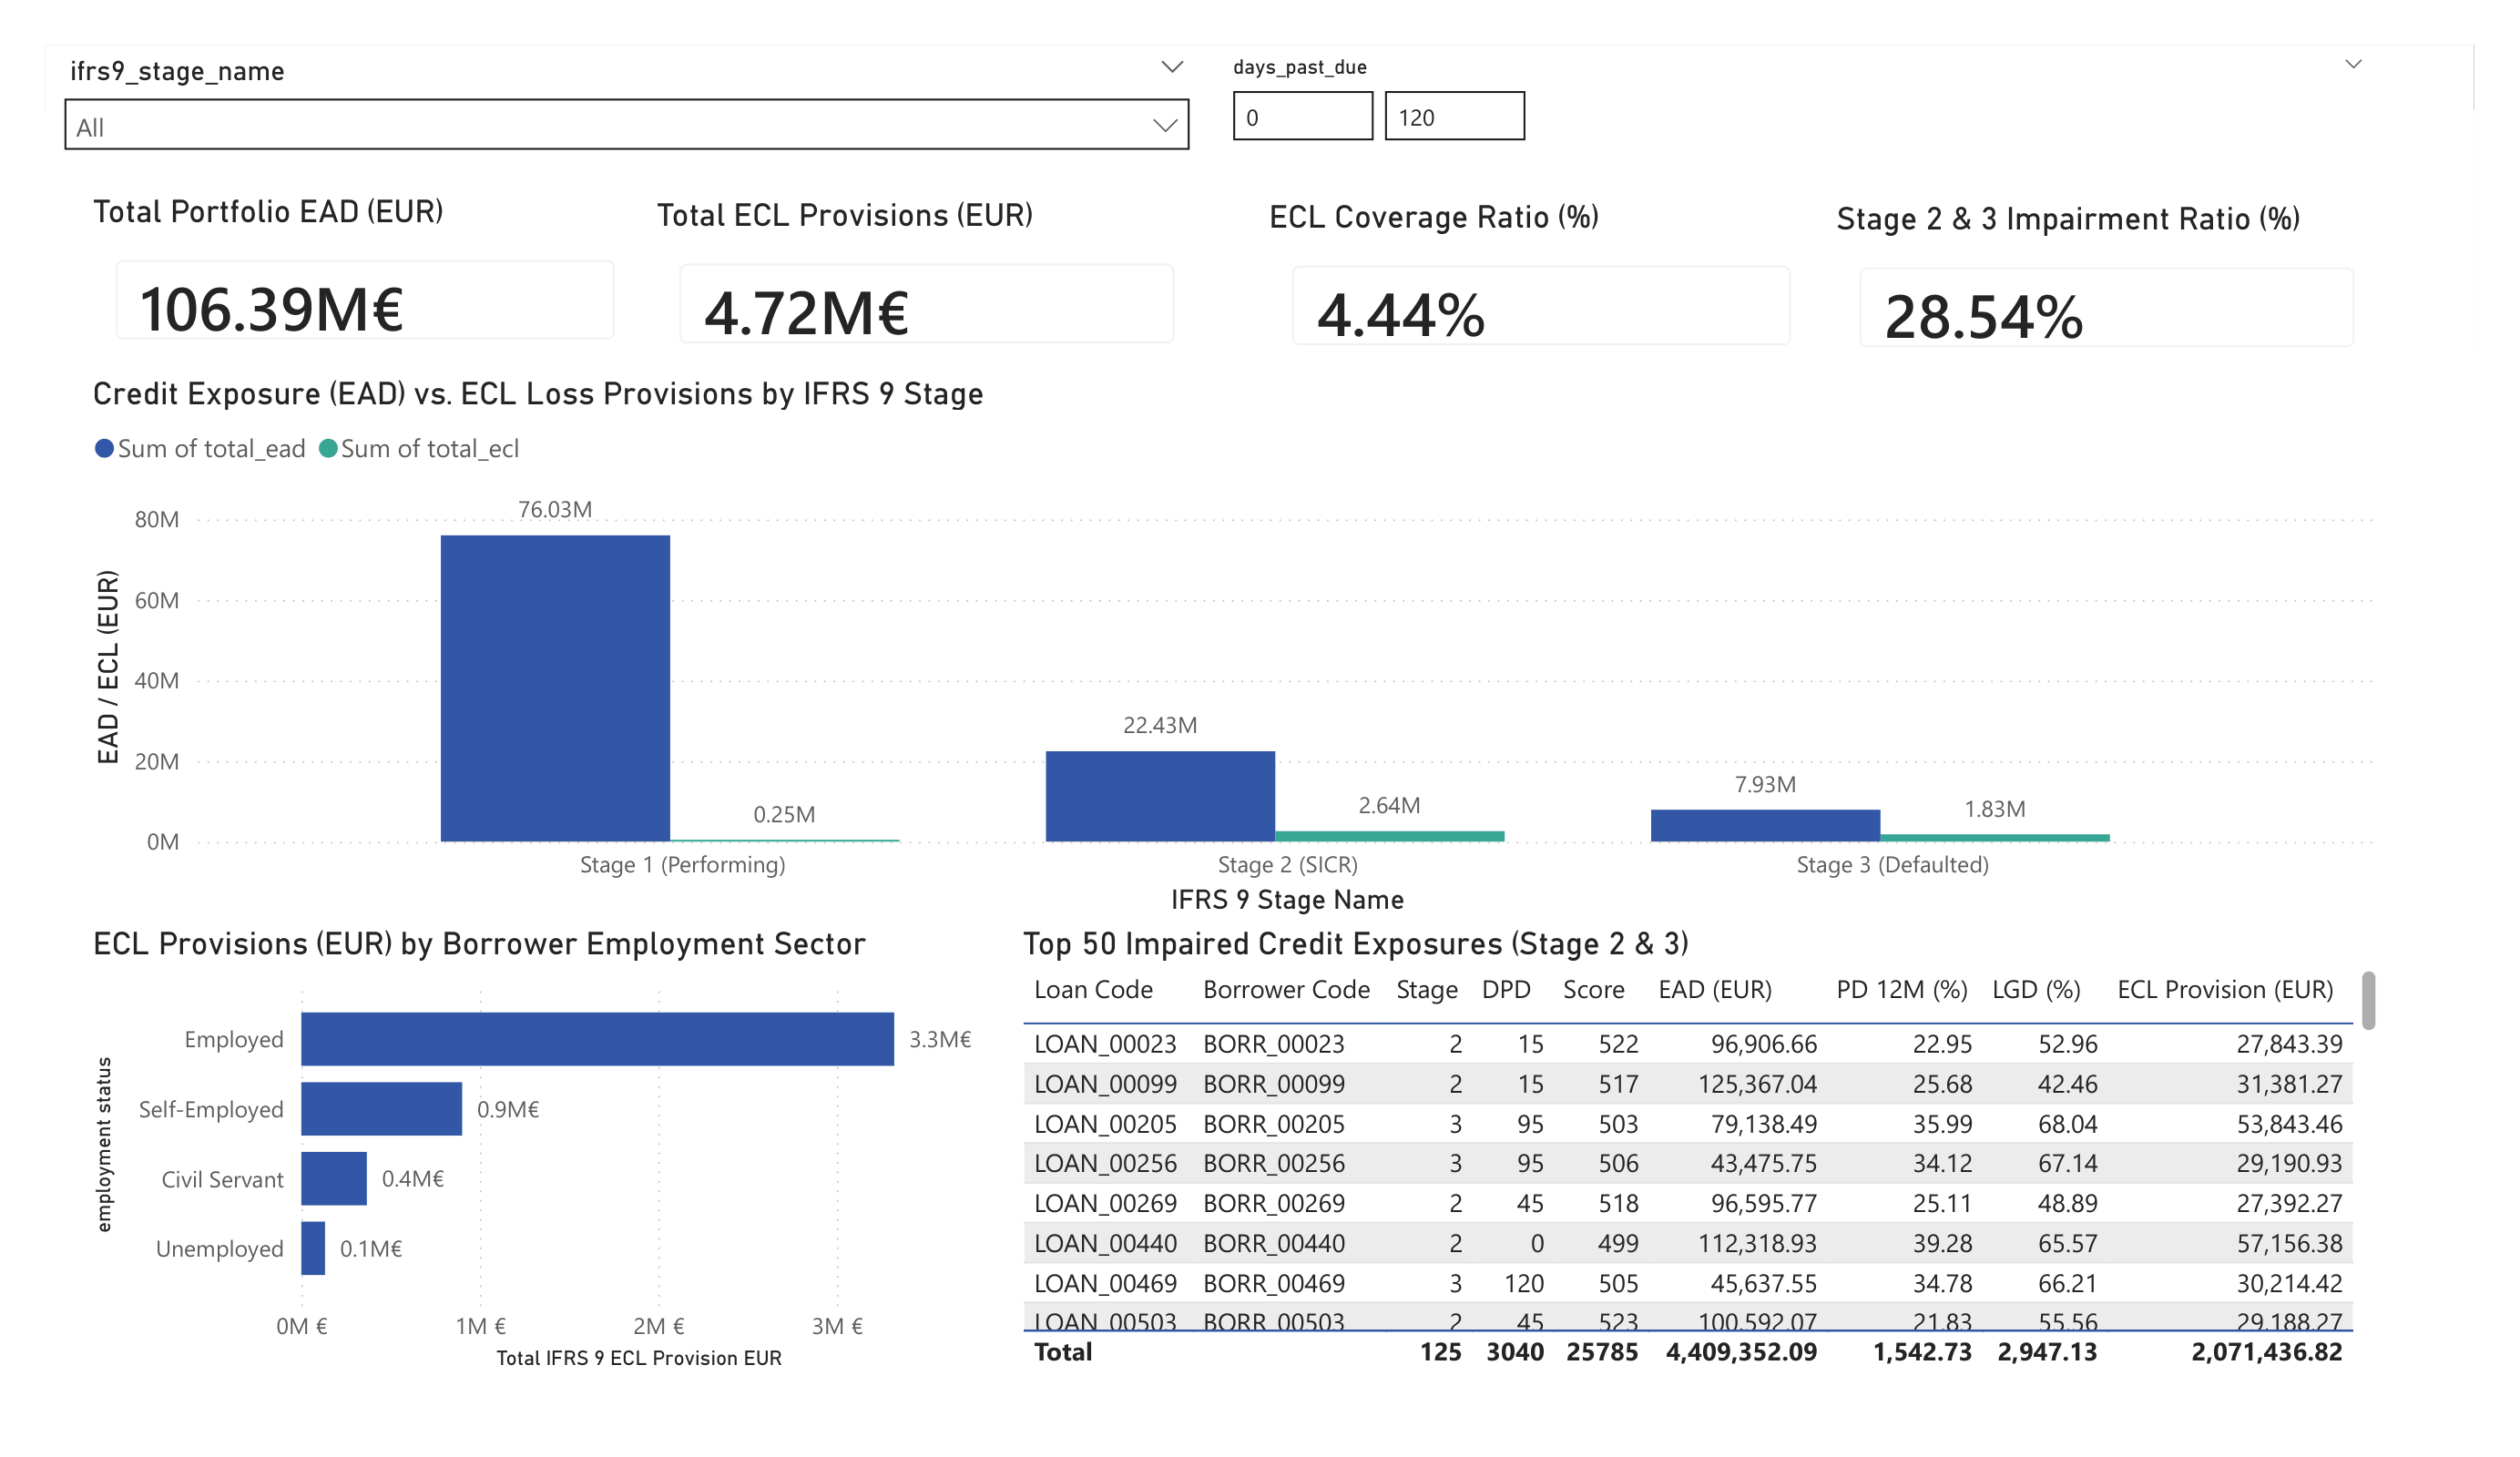

The dashboard page shown, as its layout file describes it:
{"tool":"powerbi","page":{"name":"1. IFRS 9 Portfolio Impairment","canvas":[1280,720],"ordinal":0},"visuals":[{"type":"cardVisual","title":"Total Portfolio EAD (EUR)","fields":{"Data":["_Credit Risk Measures.Total Loan Portfolio EAD EUR"]},"box":[20,77.1,297.1,95.7],"z":0},{"type":"cardVisual","title":"Total ECL Provisions (EUR)","fields":{"Data":["_Credit Risk Measures.Total IFRS 9 ECL Provision EUR"]},"box":[317.1,78.6,295.7,95.7],"z":1000},{"type":"cardVisual","title":"ECL Coverage Ratio (%)","fields":{"Data":["_Credit Risk Measures.Portfolio ECL Coverage Ratio %"]},"box":[640,80,297.1,95.7],"z":1001},{"type":"cardVisual","title":"Stage 2 & 3 Impairment Ratio (%)","fields":{"Data":["_Credit Risk Measures.Impairment Ratio %"]},"box":[938.6,81.4,295.7,95.7],"z":1002},{"type":"clusteredColumnChart","title":"Credit Exposure (EAD) vs. ECL Loss Provisions by IFRS 9 Stage","fields":{"Category":["vw_ifrs9_ecl_summary.ifrs9_stage_name"],"Y":["Sum(vw_ifrs9_ecl_summary.total_ead)","Sum(vw_ifrs9_ecl_summary.total_ecl)"]},"box":[20,172.9,1214.3,290],"z":1003},{"type":"clusteredBarChart","title":"ECL Provisions (EUR) by Borrower Employment Sector","fields":{"Category":["vw_credit_portfolio_overview.employment_status"],"Y":["_Credit Risk Measures.Total IFRS 9 ECL Provision EUR"]},"box":[20,462.9,490,240],"z":1004},{"type":"tableEx","title":"Top 50 Impaired Credit Exposures (Stage 2 & 3)","fields":{"Values":["vw_top_impaired_loans.loan_code","vw_top_impaired_loans.borrower_code","Sum(vw_top_impaired_loans.ifrs9_stage)","Sum(vw_top_impaired_loans.days_past_due)","Sum(vw_top_impaired_loans.scorecard_points)","Sum(vw_top_impaired_loans.ead)","Sum(vw_top_impaired_loans.pd_12m_pct)","Sum(vw_top_impaired_loans.lgd_pct)","Sum(vw_top_impaired_loans.ecl_amount)"]},"box":[510,462.9,724.3,240],"z":1005},{"type":"slicer","fields":{"Values":["vw_credit_portfolio_overview.ifrs9_stage_name"]},"box":[0,0,612.9,65.7],"z":1006},{"type":"slicer","fields":{"Values":["vw_credit_portfolio_overview.days_past_due"]},"box":[612.9,0,621.4,65.7],"z":1007}]}

Visuals, with their boxes on the page's 1280x720 design canvas (x1, y1, x2, y2). These are canvas units, not pixel positions in the 2520x1457 screenshot, which may show the page scaled, cropped or inside an application window:
"Total Portfolio EAD (EUR)" cardVisual: crop(20, 77, 317, 173)
"Total ECL Provisions (EUR)" cardVisual: crop(317, 79, 613, 174)
"ECL Coverage Ratio (%)" cardVisual: crop(640, 80, 937, 176)
"Stage 2 & 3 Impairment Ratio (%)" cardVisual: crop(939, 81, 1234, 177)
"Credit Exposure (EAD) vs. ECL Loss Provisions by IFRS 9 Stage" clusteredColumnChart: crop(20, 173, 1234, 463)
"ECL Provisions (EUR) by Borrower Employment Sector" clusteredBarChart: crop(20, 463, 510, 703)
"Top 50 Impaired Credit Exposures (Stage 2 & 3)" tableEx: crop(510, 463, 1234, 703)
slicer - vw_credit_portfolio_overview.ifrs9_stage_name: crop(0, 0, 613, 66)
slicer - vw_credit_portfolio_overview.days_past_due: crop(613, 0, 1234, 66)
